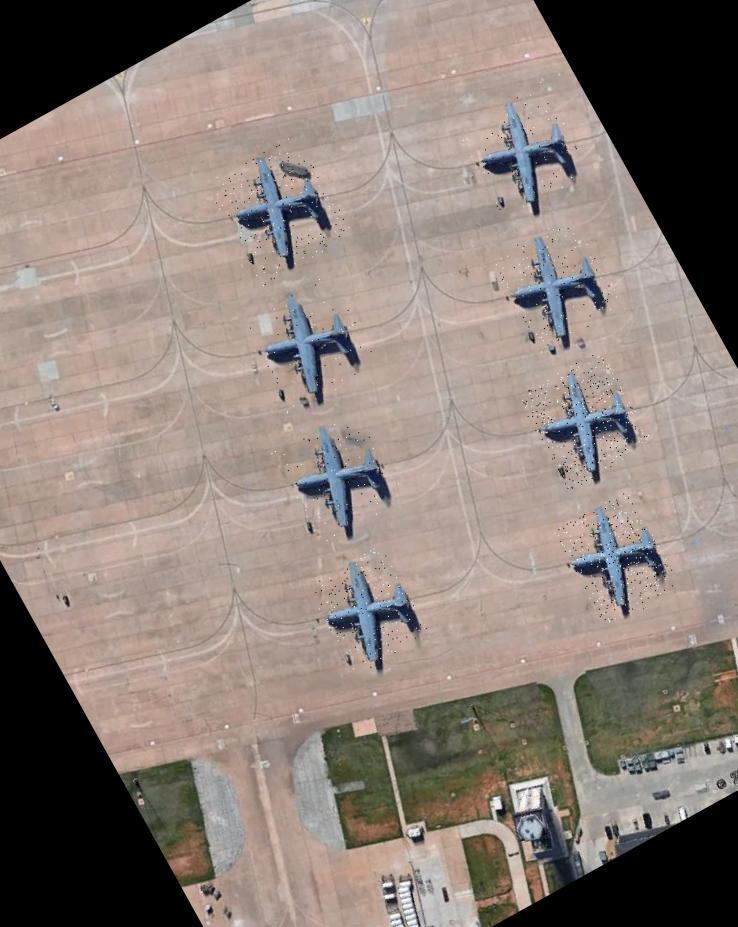A2: (204, 130, 354, 286), (236, 269, 380, 416), (516, 348, 654, 490), (270, 404, 408, 545), (454, 80, 592, 220), (488, 213, 625, 354), (552, 489, 680, 624), (306, 542, 432, 676)
